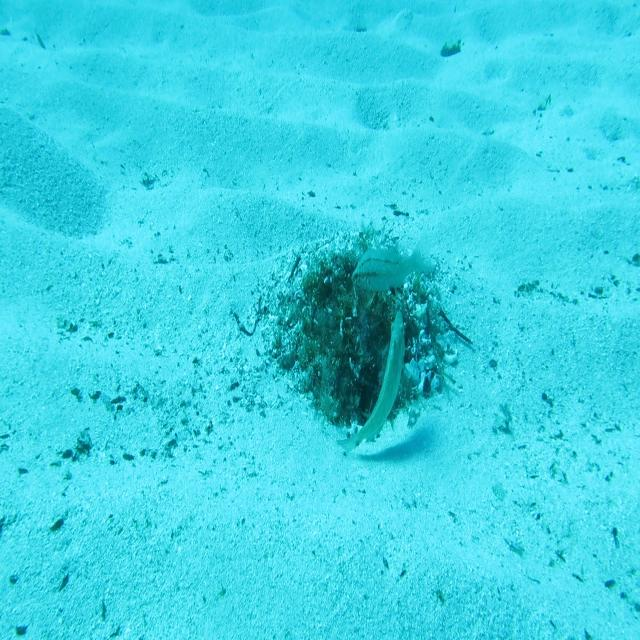GB: (334, 307, 408, 458)
core_nest: (331, 270, 382, 324)
female: (351, 228, 433, 296)
nest: (251, 217, 461, 453)
vegetation: (439, 40, 462, 60)
